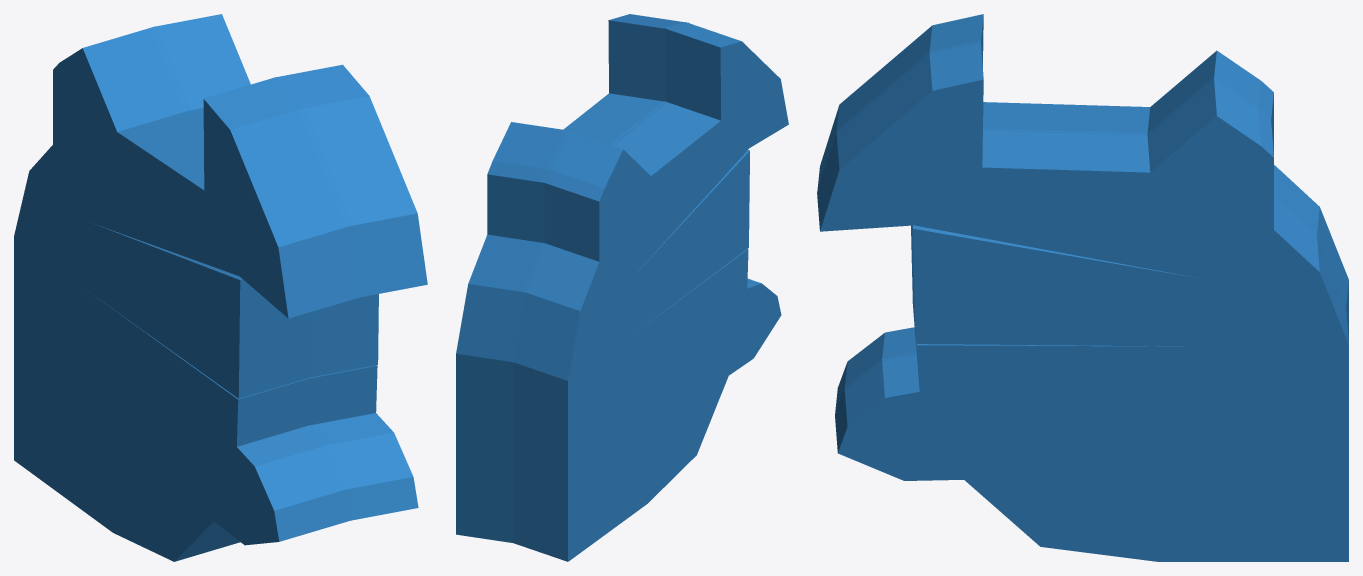
Rendered from FISH.fbx.
The picture shows the model from 3 angles, left to right: view 1: azimuth 30°, elevation 25°; view 2: azimuth 150°, elevation 25°; view 3: azimuth 270°, elevation 25°; orthographic projection. The views are drawn at different scales.
Parts seen in each view (by area): view 1: Plane; view 2: Plane; view 3: Plane.
Part boxes in pixels (x1,y1,x2,y2): Plane: (14, 14, 427, 561); Plane: (456, 14, 788, 561); Plane: (817, 14, 1348, 561).
Size of the model in its own units: 256 by 888 by 878.
